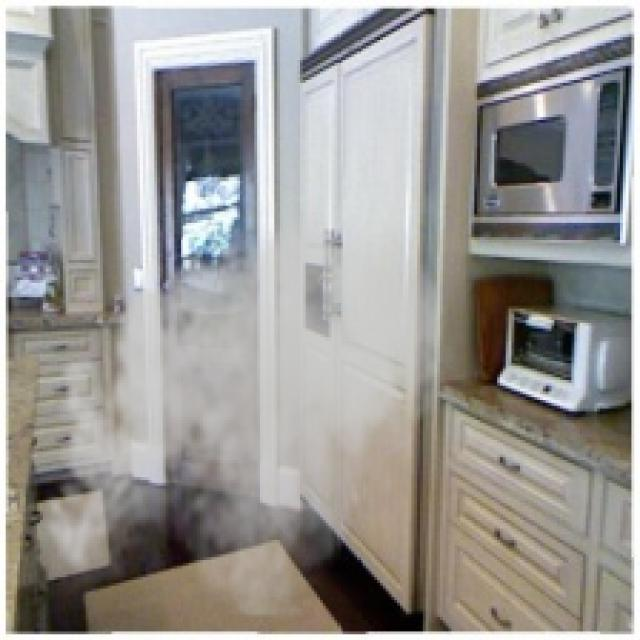smoke: (32, 194, 454, 620)
